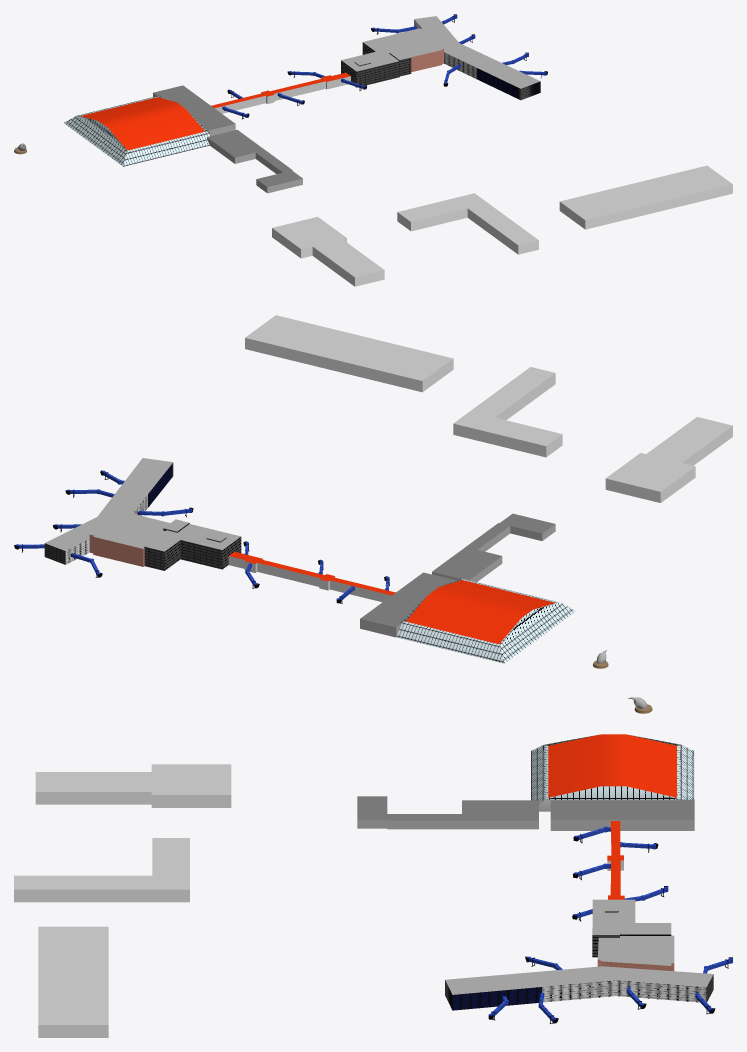
The model's file is BIKF.gltf.
3 views of the same model, one above another, from view 1: azimuth 30°, elevation 25°; view 2: azimuth 150°, elevation 25°; view 3: azimuth 270°, elevation 25° (orthographic). The views are drawn at different scales.
Visible parts, largest first — view 1: Merged Objects 1, Buffer Object 11, Buffer Object 1, Buffer Object 2, Buffer Object 3, Buffer Object 7, Buffer Object 9, Buffer Object 10, Buffer Object 8, Merged Objects 9, Buffer Object 4, Buffer Object (+4 smaller); view 2: Merged Objects 1, Buffer Object 11, Buffer Object 1, Buffer Object 2, Buffer Object 3, Buffer Object 7, Buffer Object 9, Buffer Object 10, Buffer Object 8, Merged Objects 9, Buffer Object 4, Buffer Object 5 (+3 smaller); view 3: Merged Objects 1, Buffer Object 11, Buffer Object 1, Buffer Object 2, Buffer Object 7, Buffer Object 9, Buffer Object, Buffer Object 3, Merged Objects 8, Buffer Object 4, Buffer Object 8, Merged Objects 2 (+2 smaller).
Part boxes in pixels (x1,y1,x2,y2): Merged Objects 1: (341, 16, 540, 88); Buffer Object 11: (560, 165, 732, 220); Buffer Object 1: (81, 97, 204, 150); Buffer Object 2: (153, 85, 302, 186); Buffer Object 3: (64, 96, 210, 166); Buffer Object 7: (272, 216, 384, 277); Buffer Object 9: (398, 193, 538, 245); Buffer Object 10: (559, 184, 732, 229); Buffer Object 8: (397, 208, 538, 254); Merged Objects 9: (341, 42, 411, 87); Buffer Object 4: (272, 228, 384, 286); Buffer Object: (153, 93, 302, 193); Merged Objects 1: (45, 458, 240, 551); Buffer Object 11: (245, 315, 453, 380); Buffer Object 1: (406, 580, 555, 644); Buffer Object 2: (360, 513, 554, 627); Buffer Object 3: (396, 578, 575, 663); Buffer Object 7: (606, 417, 732, 491); Buffer Object 9: (453, 367, 562, 445); Buffer Object 10: (245, 338, 453, 392); Buffer Object 8: (453, 373, 562, 457); Merged Objects 9: (144, 523, 241, 570); Buffer Object 4: (605, 426, 732, 502); Buffer Object 5: (228, 556, 391, 602); Merged Objects 1: (445, 899, 713, 994); Buffer Object 11: (38, 926, 108, 1024); Buffer Object 1: (548, 734, 676, 797); Buffer Object 2: (357, 796, 694, 820); Buffer Object 7: (35, 764, 231, 794); Buffer Object 9: (14, 838, 189, 889); Buffer Object: (357, 800, 694, 830); Buffer Object 3: (531, 735, 694, 803); Merged Objects 8: (541, 980, 706, 1002); Buffer Object 4: (35, 792, 231, 807); Buffer Object 8: (14, 889, 189, 902); Merged Objects 2: (445, 980, 541, 1010).
Bounding box in the file's own units: 21.37 × 0.7203 × 19.57.
44 materials, 18 textured.
